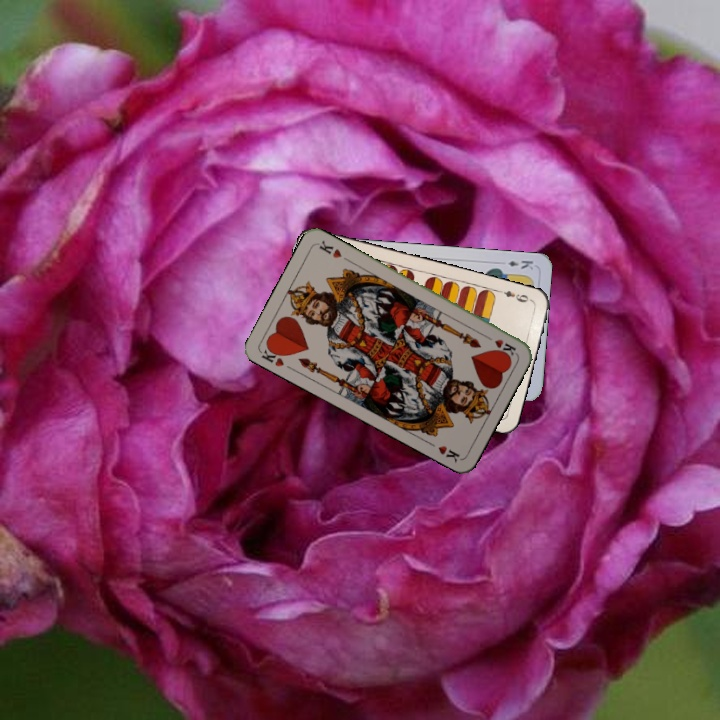E9: (495, 286, 535, 305)
EK: (504, 256, 536, 272)
HK: (481, 331, 519, 358), (257, 341, 288, 369)
